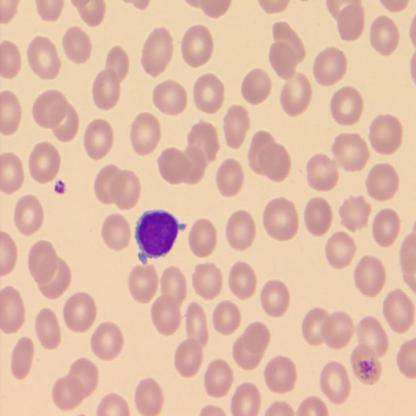Lymphocyte: (134, 207, 187, 266)
